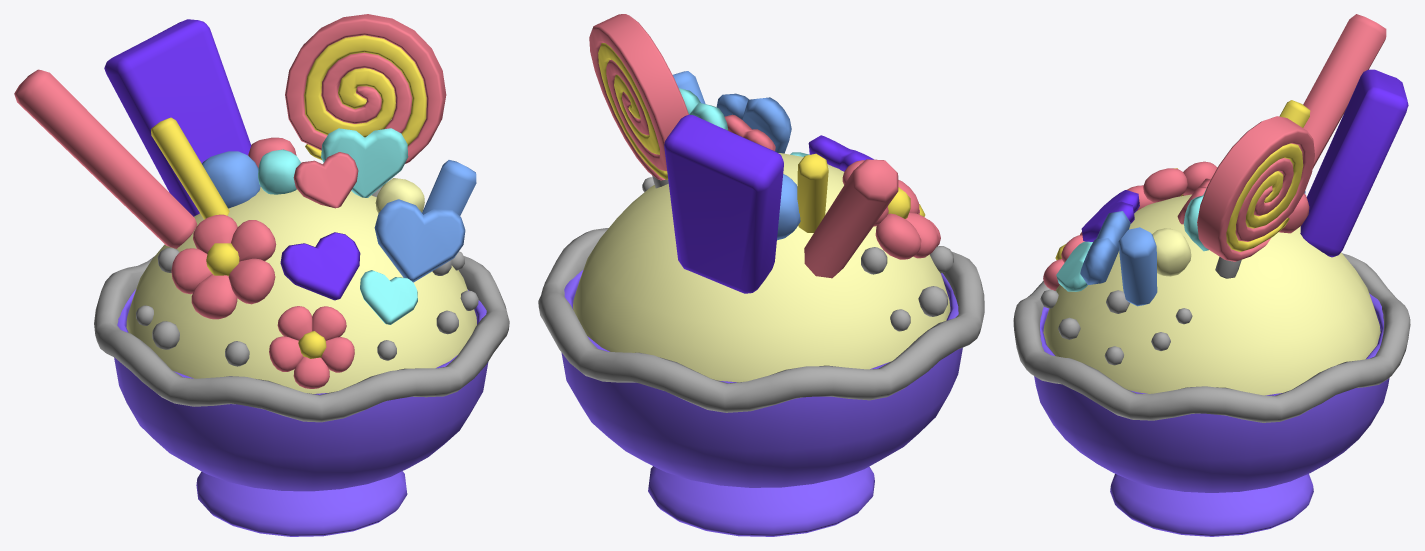
Rendered from Shavedlce.fbx.
The picture shows the model from 3 angles, left to right: view 1: azimuth 30°, elevation 25°; view 2: azimuth 150°, elevation 25°; view 3: azimuth 270°, elevation 25°; orthographic projection. The views are drawn at different scales.
Parts seen in each view (by area): view 1: S_ShavedIce1, S_ShavedIce3, S_ShavedIce2, M_ShavedIce26, S_ShavedIce21, M_ShavedIce13, M_ShavedIce25, S_ShavedIce22, M_ShavedIce16, M_ShavedIce28, M_ShavedIce27, M_ShavedIce15 (+20 smaller); view 2: S_ShavedIce1, S_ShavedIce3, S_ShavedIce2, M_ShavedIce26, M_ShavedIce25, S_ShavedIce21, M_ShavedIce13, S_ShavedIce22, M_ShavedIce16, M_ShavedIce15, S_ShavedIce7, M_ShavedIce28 (+6 smaller); view 3: S_ShavedIce1, S_ShavedIce3, S_ShavedIce2, M_ShavedIce26, S_ShavedIce21, M_ShavedIce25, M_ShavedIce13, S_ShavedIce22, M_ShavedIce14, M_ShavedIce16, S_ShavedIce19, M_ShavedIce28 (+6 smaller).
Boxes of the visible parts, box(x1,y1,x2,y2) form: S_ShavedIce1: box(126, 186, 476, 393); S_ShavedIce3: box(114, 289, 488, 491); S_ShavedIce2: box(94, 256, 509, 422); M_ShavedIce26: box(104, 19, 251, 216); S_ShavedIce21: box(285, 14, 446, 163); M_ShavedIce13: box(14, 69, 197, 248); M_ShavedIce25: box(196, 471, 407, 536); S_ShavedIce22: box(304, 35, 426, 159); M_ShavedIce16: box(374, 199, 465, 282); M_ShavedIce28: box(280, 232, 360, 300); M_ShavedIce27: box(321, 128, 408, 197); M_ShavedIce15: box(151, 117, 229, 219); S_ShavedIce1: box(573, 153, 950, 382); S_ShavedIce3: box(561, 270, 962, 487); S_ShavedIce2: box(538, 228, 984, 412); M_ShavedIce26: box(664, 114, 783, 293); M_ShavedIce25: box(648, 466, 874, 536); S_ShavedIce21: box(589, 14, 688, 180); M_ShavedIce13: box(804, 159, 898, 278); S_ShavedIce22: box(598, 43, 668, 179); M_ShavedIce16: box(716, 93, 791, 153); M_ShavedIce15: box(797, 153, 828, 232); S_ShavedIce7: box(875, 213, 921, 259); M_ShavedIce28: box(808, 135, 873, 171); S_ShavedIce1: box(1043, 194, 1380, 395); S_ShavedIce3: box(1034, 293, 1389, 492); S_ShavedIce2: box(1013, 253, 1410, 422); M_ShavedIce26: box(1300, 69, 1408, 257); S_ShavedIce21: box(1197, 116, 1314, 261); M_ShavedIce25: box(1110, 474, 1313, 536); M_ShavedIce13: box(1303, 14, 1386, 168); S_ShavedIce22: box(1226, 143, 1303, 251); M_ShavedIce14: box(1118, 227, 1157, 306); M_ShavedIce16: box(1080, 211, 1130, 284); S_ShavedIce19: box(1152, 228, 1191, 276); M_ShavedIce28: box(1081, 190, 1139, 241).
Bounding box in the file's own units: 445 × 481 × 415.
